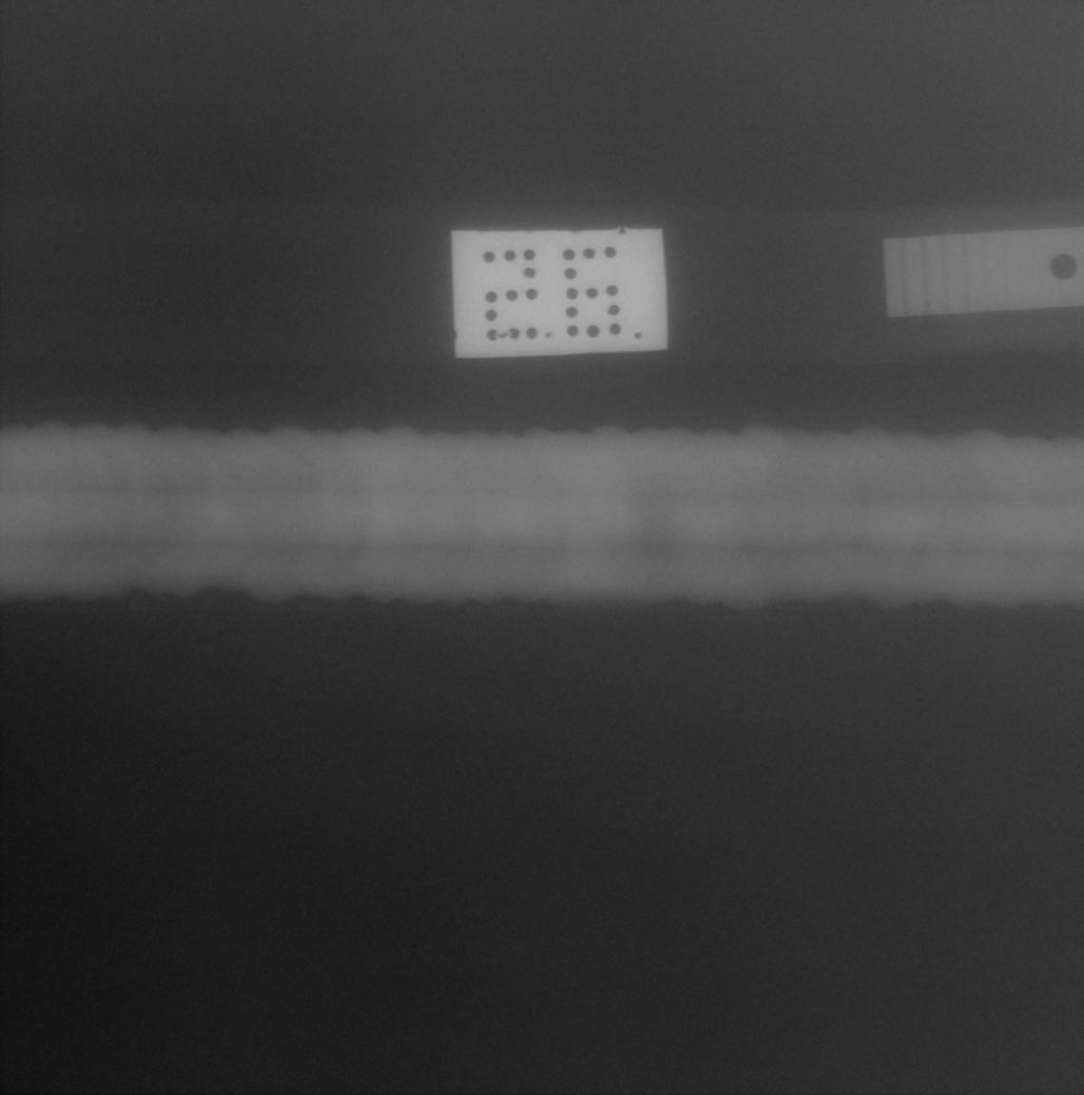Pore/Porosity: (151, 498, 155, 502)
